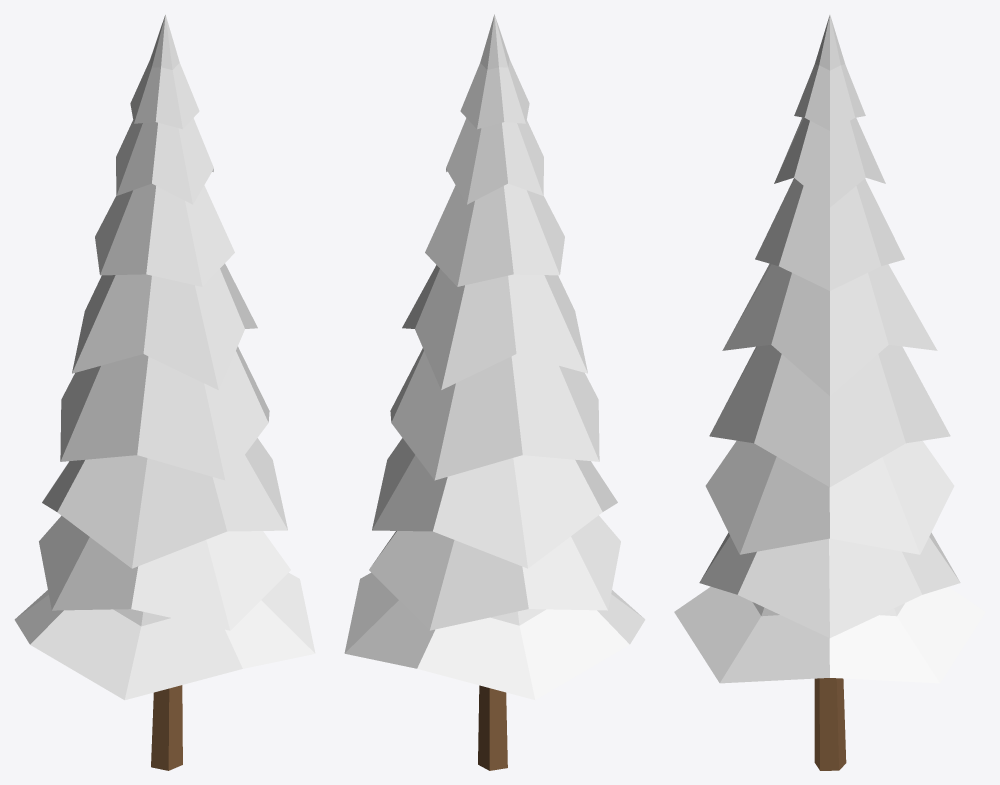
File: Pine_Tree_OneSided_l_Snow_02.fbx
3 renders of one model, left to right at view 1: azimuth 30°, elevation 25°; view 2: azimuth 150°, elevation 25°; view 3: azimuth 270°, elevation 25°, orthographic.
Parts seen in each view (by area): view 1: Pine_Tree_OneSided_l_Snow_02; view 2: Pine_Tree_OneSided_l_Snow_02; view 3: Pine_Tree_OneSided_l_Snow_02.
Part boxes in pixels (x1=…): Pine_Tree_OneSided_l_Snow_02: x1=14, y1=14, x2=315, y2=770; Pine_Tree_OneSided_l_Snow_02: x1=344, y1=14, x2=645, y2=770; Pine_Tree_OneSided_l_Snow_02: x1=674, y1=15, x2=985, y2=770.
Bounding box in the file's own units: 666 × 1768 × 666.
